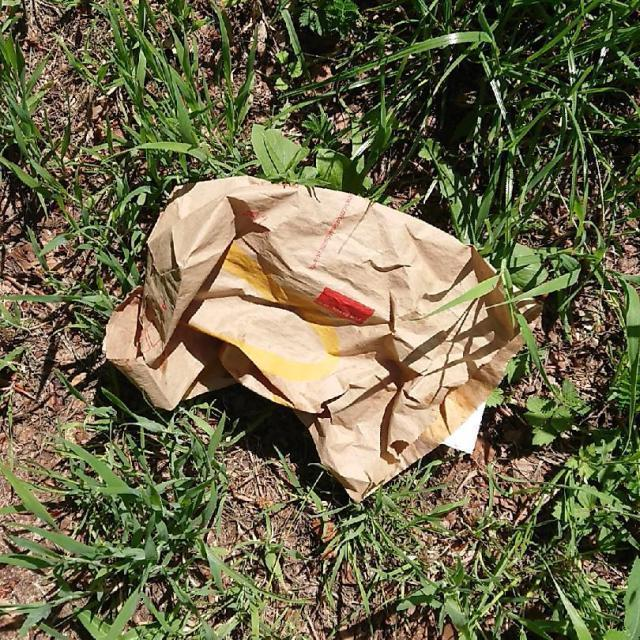Paper: (94, 169, 526, 503)
